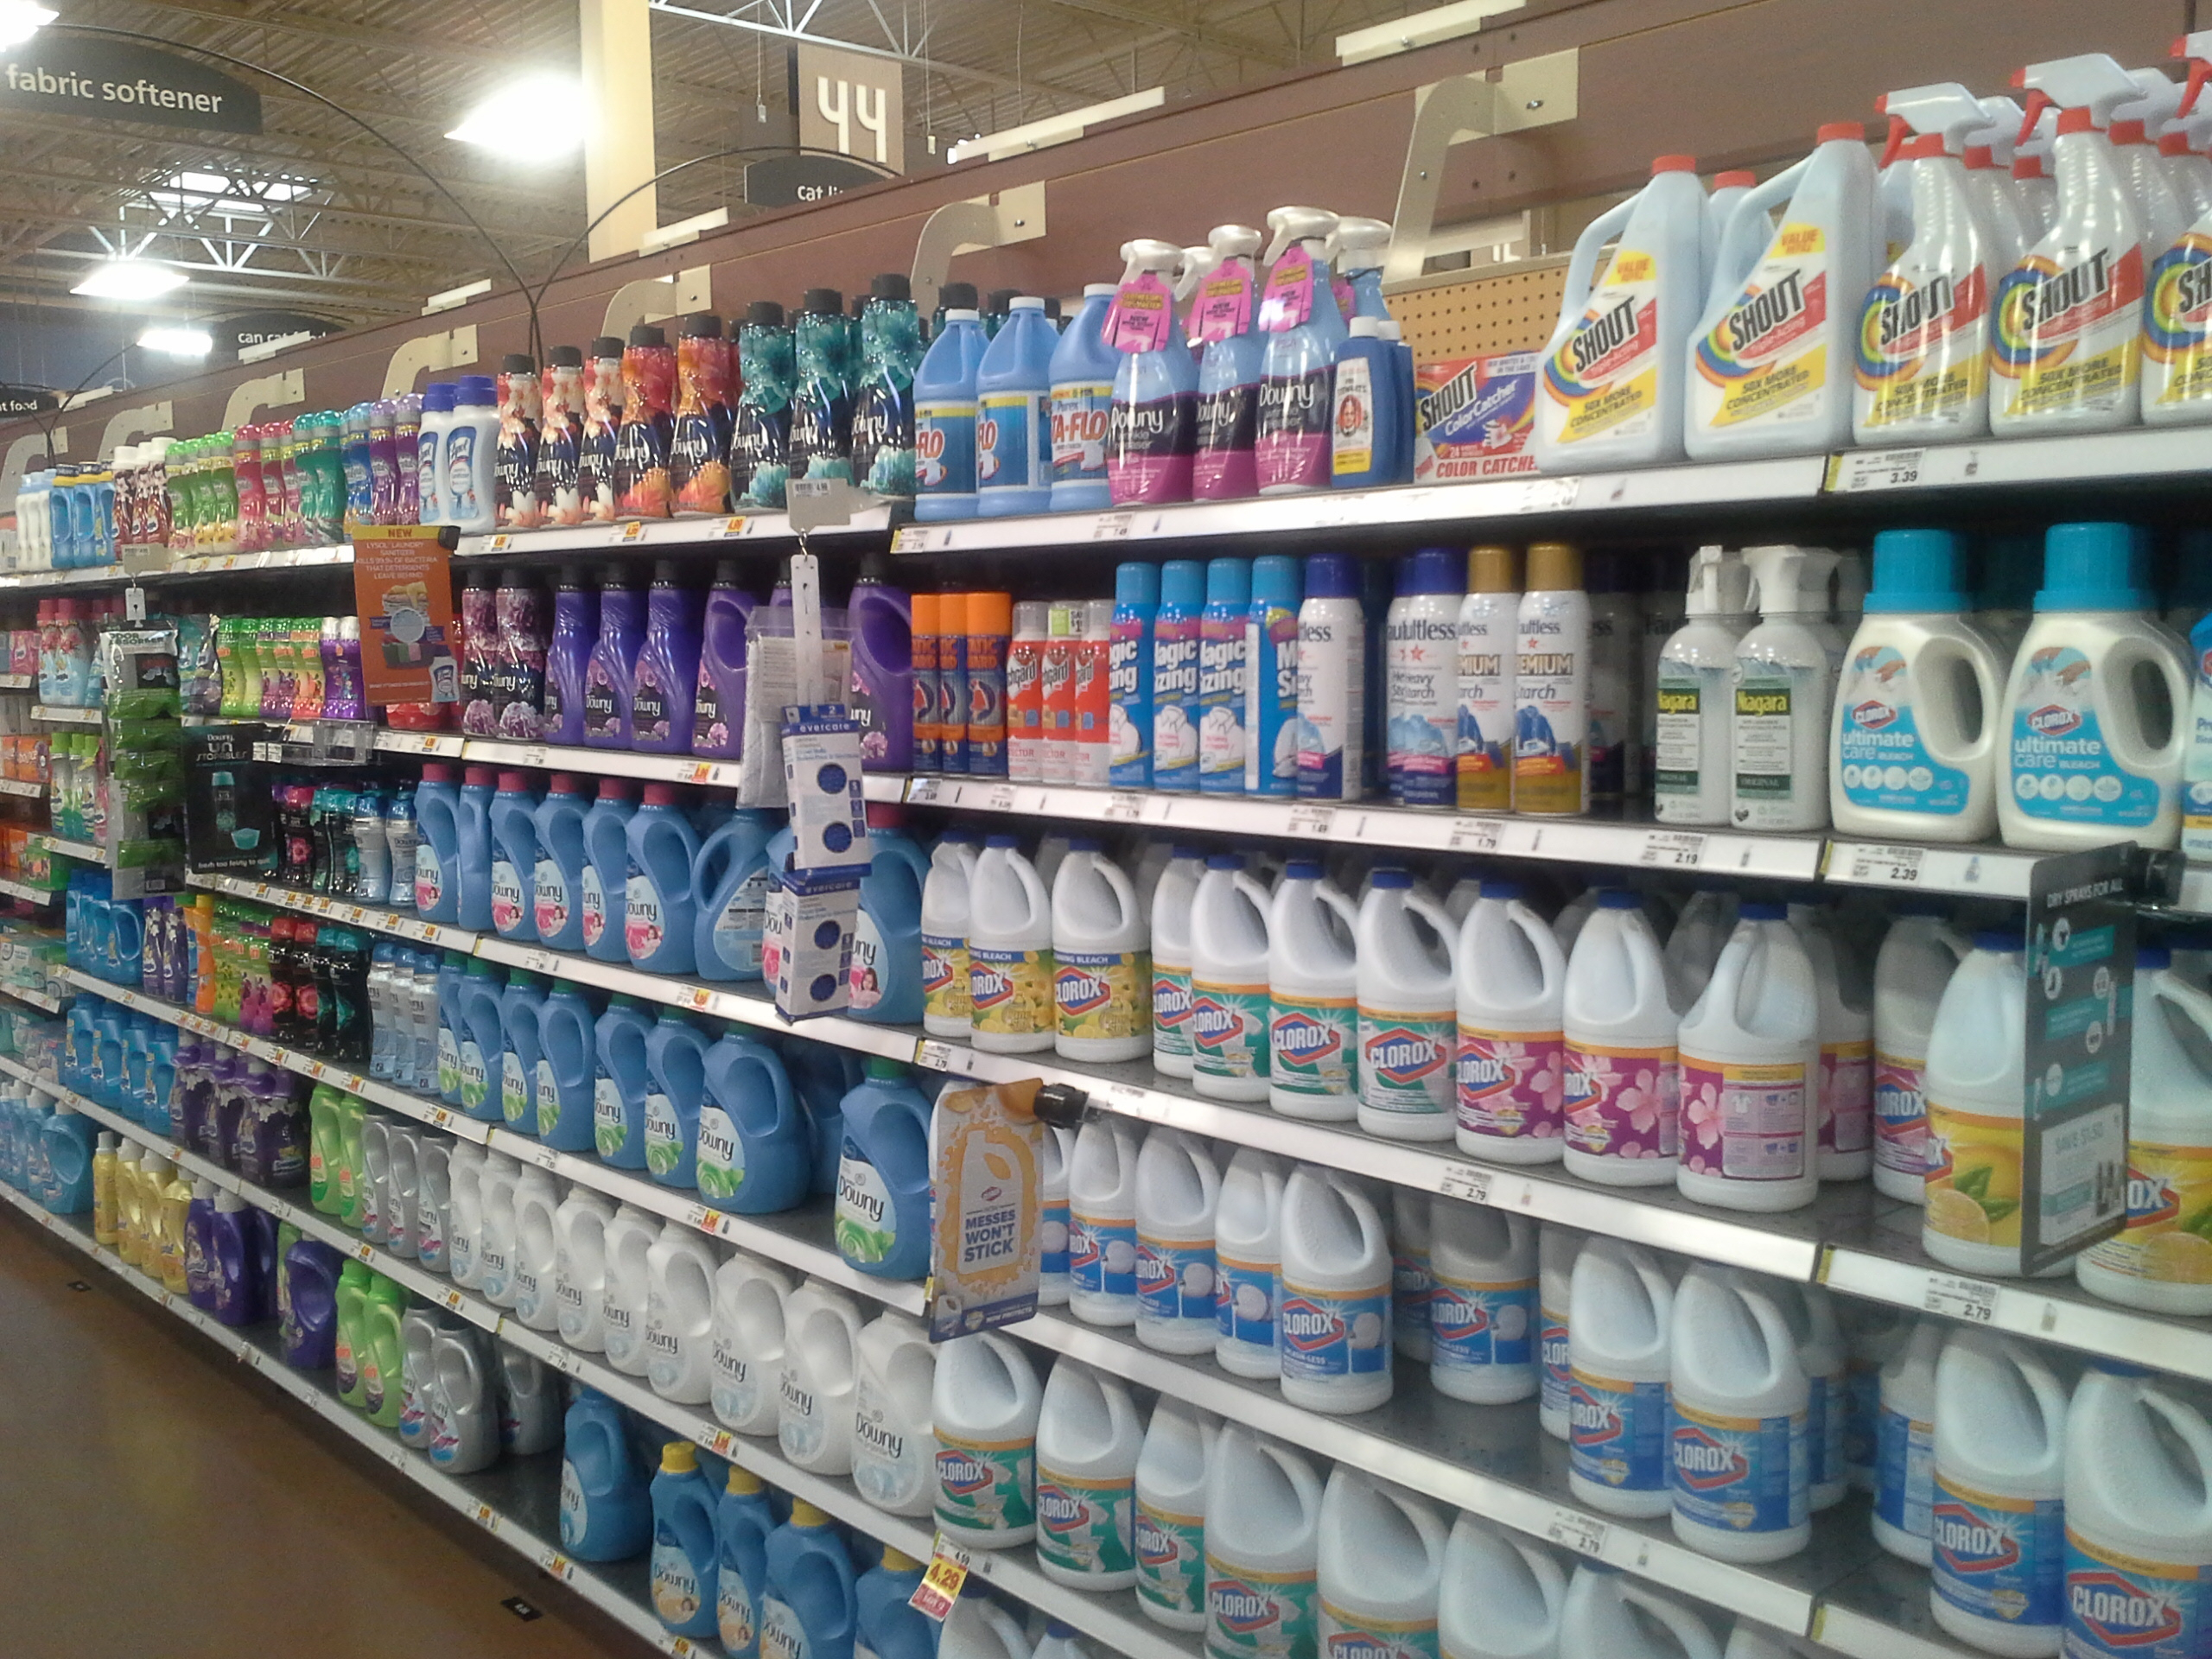product: (1871, 934, 2054, 1284), (1987, 521, 2177, 847), (1538, 153, 1702, 472), (1876, 44, 2005, 444), (2005, 44, 2128, 434), (2087, 911, 2212, 1288), (1834, 521, 1979, 847), (1709, 132, 1857, 450), (1923, 1337, 2067, 1649), (1669, 1246, 1808, 1558), (1674, 887, 1806, 1215), (2076, 1363, 2212, 1659), (1726, 521, 1831, 829), (2135, 35, 2212, 434), (1566, 880, 1670, 1169), (1454, 871, 1554, 1162), (1561, 1243, 1665, 1509), (1331, 213, 1421, 500), (1353, 856, 1447, 1119), (921, 1330, 1029, 1556), (1268, 835, 1352, 1119), (1428, 1187, 1517, 1452), (1045, 824, 1141, 1066), (1202, 1436, 1308, 1645), (1184, 211, 1258, 511), (1280, 1161, 1376, 1389), (1254, 209, 1327, 505), (1512, 538, 1588, 819), (1313, 1443, 1411, 1659), (1109, 235, 1179, 528), (1374, 538, 1449, 805), (698, 1018, 799, 1208), (1658, 545, 1724, 826), (838, 1056, 925, 1267), (1298, 551, 1366, 816), (1451, 1500, 1559, 1659), (1134, 1121, 1216, 1330), (1197, 831, 1263, 1089), (1043, 1368, 1132, 1560), (982, 281, 1050, 519), (972, 823, 1043, 1049), (1454, 540, 1514, 809), (1216, 1127, 1275, 1385), (637, 1439, 709, 1650), (773, 1269, 843, 1483), (1132, 1371, 1188, 1635), (110, 629, 172, 859), (921, 275, 981, 518), (792, 277, 855, 505), (850, 1310, 923, 1495), (1155, 549, 1209, 796), (726, 298, 789, 511), (550, 1385, 625, 1558), (1057, 1115, 1122, 1316), (618, 775, 685, 969), (855, 277, 909, 514), (685, 552, 745, 758), (1146, 838, 1197, 1082), (695, 795, 756, 995), (665, 305, 719, 523), (859, 805, 913, 1019), (770, 1506, 845, 1659), (1061, 265, 1106, 518), (780, 725, 857, 873), (1108, 561, 1153, 796), (1209, 551, 1251, 798), (918, 824, 965, 1044), (1251, 552, 1294, 789), (632, 556, 683, 760), (653, 1202, 704, 1405), (1437, 362, 1522, 476), (768, 878, 845, 1004), (592, 985, 641, 1182), (707, 1249, 768, 1405), (582, 554, 631, 746), (185, 735, 261, 857), (617, 328, 664, 525), (1581, 1556, 1670, 1659), (716, 1466, 763, 1659), (479, 1319, 538, 1467), (650, 1002, 697, 1187), (967, 589, 1010, 786), (848, 565, 904, 716), (575, 328, 617, 528), (597, 1197, 648, 1361), (533, 340, 575, 532), (543, 976, 592, 1134), (533, 769, 575, 953), (578, 775, 620, 957), (496, 568, 542, 735), (857, 1549, 925, 1659), (273, 1230, 326, 1368), (451, 577, 496, 735), (428, 1312, 479, 1453), (495, 763, 535, 941), (496, 342, 533, 533), (411, 760, 453, 925), (70, 875, 136, 974), (211, 894, 260, 1028), (556, 1175, 590, 1359), (1045, 598, 1078, 789), (451, 369, 489, 533), (542, 568, 577, 748), (1010, 598, 1043, 782), (486, 1145, 523, 1307), (1078, 591, 1108, 789), (456, 763, 493, 924), (498, 972, 535, 1129), (907, 598, 939, 775), (939, 589, 967, 775), (35, 1093, 78, 1211), (399, 1281, 428, 1455), (465, 969, 498, 1121), (307, 403, 338, 561), (415, 1115, 444, 1270), (449, 1138, 479, 1293), (364, 1281, 397, 1415), (265, 1065, 300, 1192), (523, 1152, 549, 1319), (423, 376, 451, 533), (352, 1098, 381, 1239), (214, 1190, 246, 1319), (350, 791, 385, 906), (199, 1037, 230, 1162), (338, 404, 366, 545), (307, 784, 343, 890), (361, 943, 388, 1079), (280, 416, 307, 561), (385, 1114, 415, 1241), (14, 469, 51, 570), (369, 396, 395, 537), (233, 427, 261, 556), (437, 953, 460, 1108), (385, 784, 413, 908), (233, 1056, 265, 1162), (336, 925, 362, 1053), (176, 620, 211, 713), (338, 1255, 359, 1408), (291, 913, 315, 1044), (78, 460, 110, 561), (188, 1176, 212, 1302), (411, 950, 432, 1096), (307, 1087, 331, 1211), (59, 598, 87, 706), (401, 396, 421, 537), (162, 1162, 186, 1283), (77, 728, 103, 840), (138, 439, 164, 551), (211, 427, 233, 554), (169, 1033, 197, 1136), (139, 1140, 160, 1276), (390, 945, 411, 1080), (314, 924, 334, 1058), (61, 995, 91, 1089), (340, 617, 364, 730), (148, 1016, 171, 1136), (260, 413, 279, 554), (94, 1004, 120, 1107), (87, 1133, 110, 1249), (115, 437, 136, 561), (113, 1134, 136, 1248), (188, 437, 211, 551), (162, 896, 186, 999), (186, 890, 209, 999), (165, 439, 186, 556), (10, 1084, 35, 1183), (334, 1091, 354, 1215), (258, 613, 279, 725), (26, 1016, 59, 1084), (270, 915, 289, 1032), (279, 784, 301, 882), (118, 1012, 141, 1110), (54, 460, 73, 570), (320, 617, 340, 725), (301, 622, 322, 720), (280, 617, 301, 714), (51, 735, 70, 842), (219, 615, 240, 711), (38, 599, 57, 704), (139, 897, 160, 988), (7, 941, 45, 990), (12, 826, 45, 880), (21, 730, 49, 781), (10, 624, 37, 674), (5, 1014, 28, 1065)
